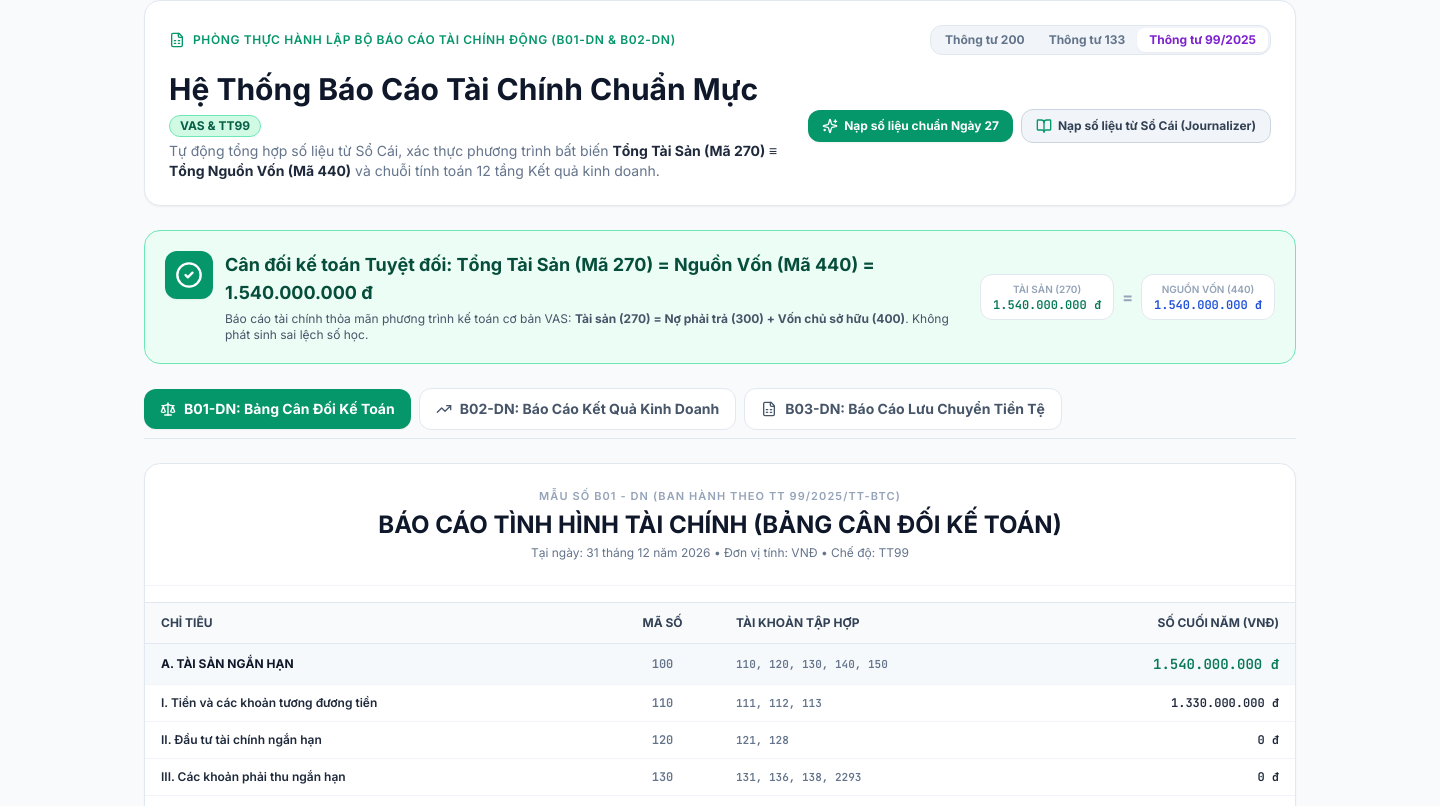
Test: 2026 SOTA Vietnam Accounting Standards Upgrade › GAP-02: B03-DN Indirect Cash Flow Statement Engine & Cross-Statement Invariant › renders B03-DN Cash Flow tab and Circular 99/2025 title in FinancialStatementsView
Expected: the heading "BÁO CÁO TÌNH HÌNH TÀI CHÍNH (BẢNG CÂN ĐỐI KẾ TOÁN)" is shown, [378,510,1062,538]
Switch to B03-DN tab
Click the button with test id "subtab-b03" at [903, 409], box [744,388,1062,430]
(page scrolled)
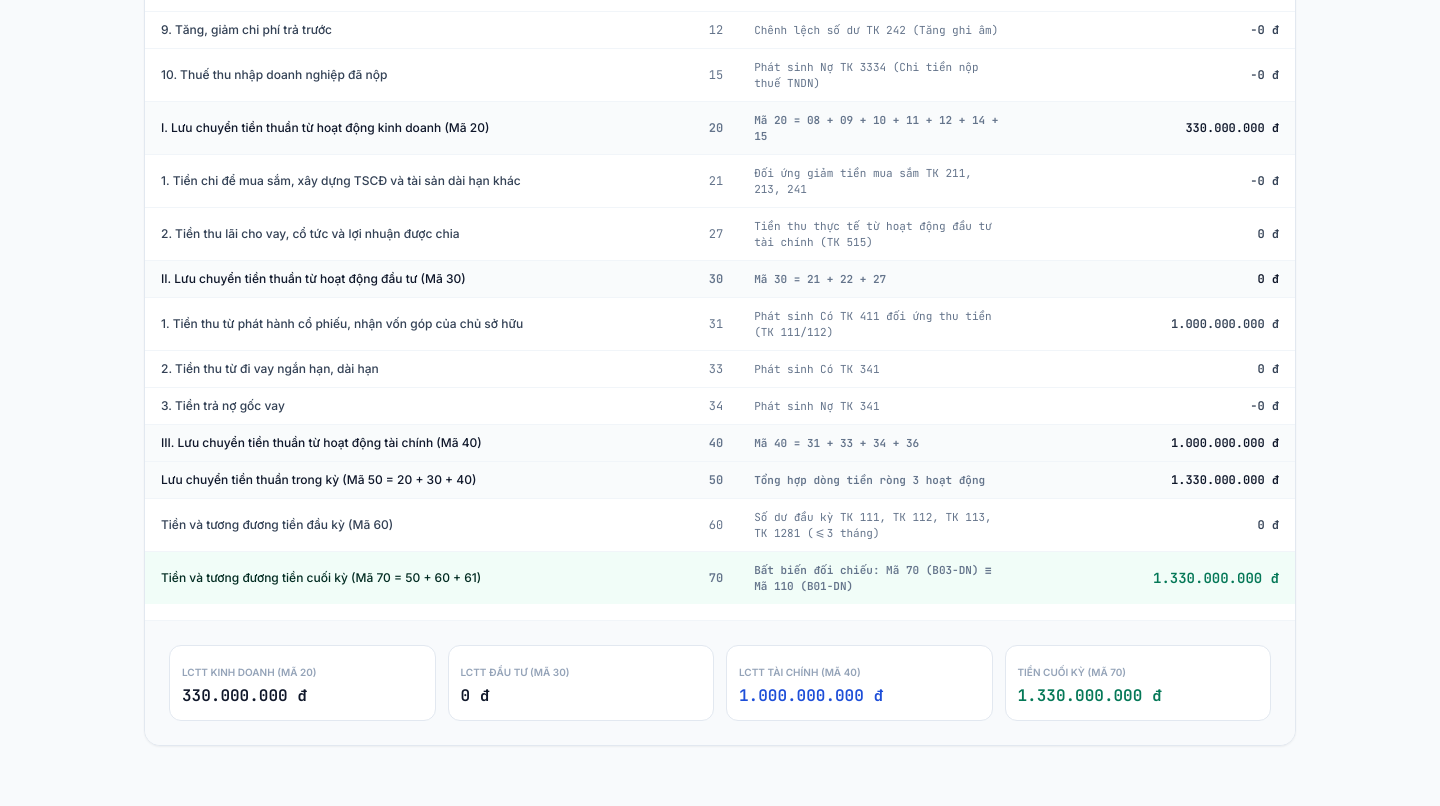
Now the row with test id "b03-row-70" is shown, box [145,552,1295,604]
